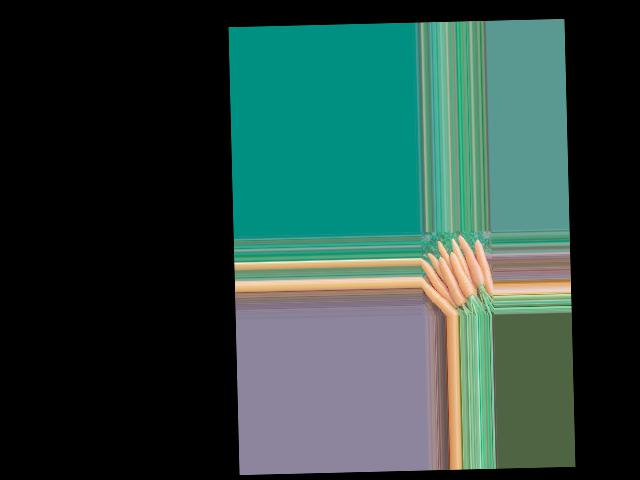carrot: (420, 269, 461, 315)
